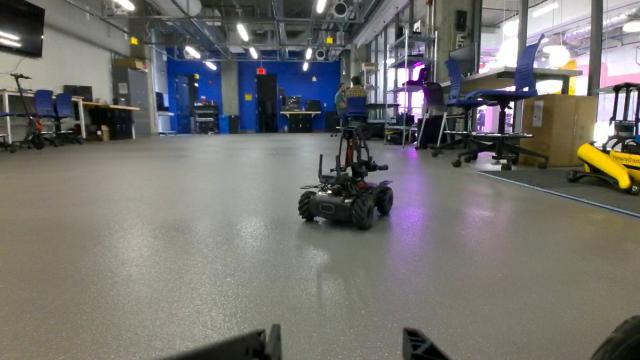robot: (293, 117, 394, 231)
